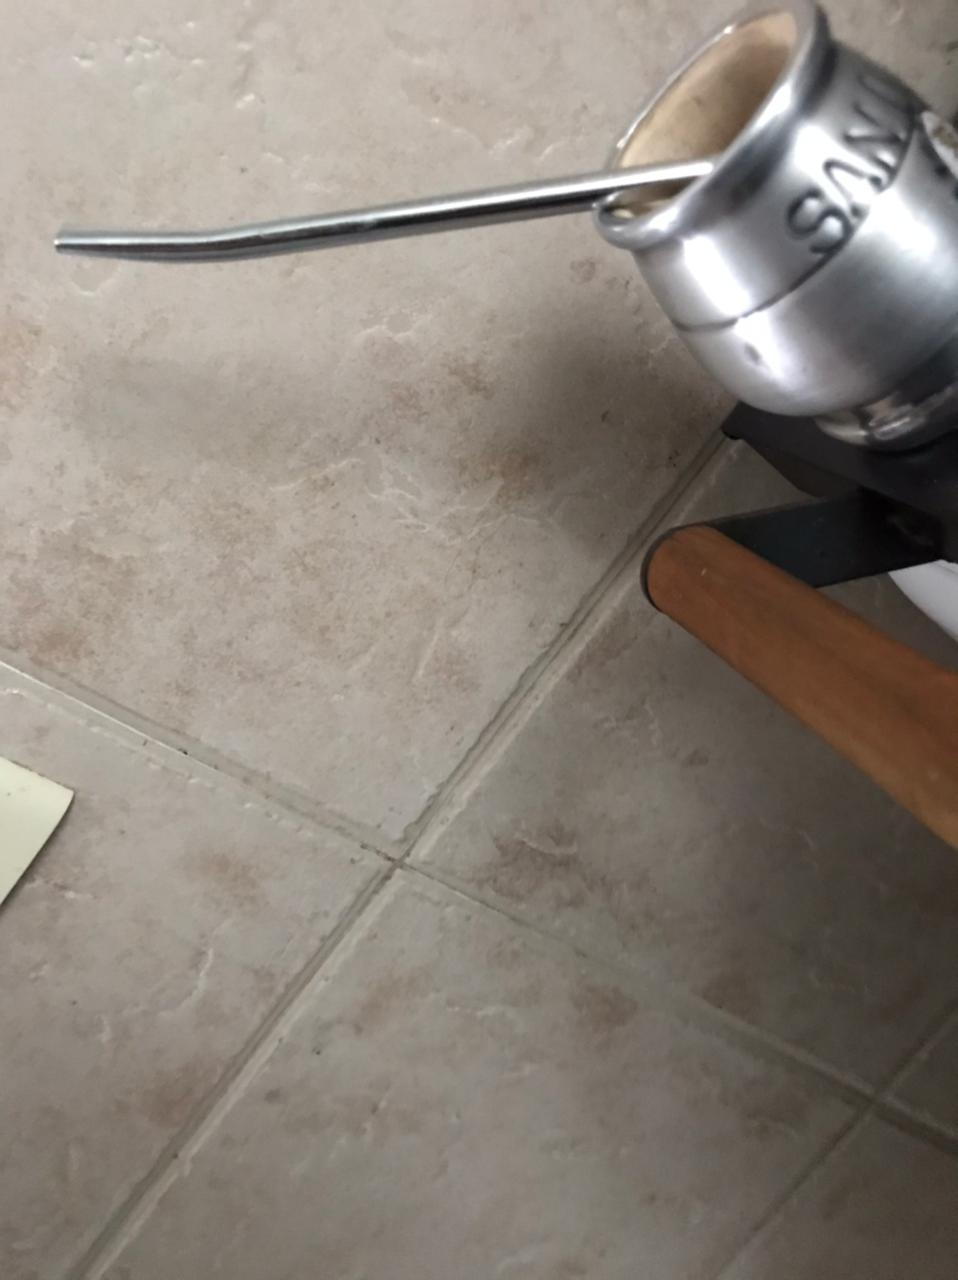mate: (55, 1, 958, 566)
